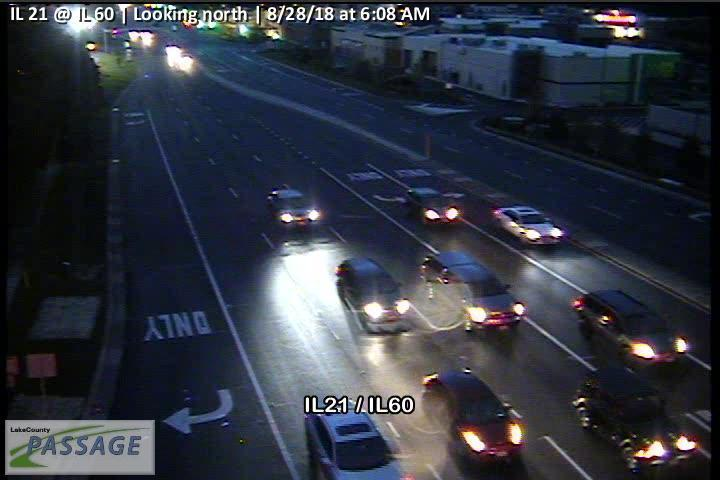Sedan: (570, 369, 699, 476), (418, 364, 526, 463), (569, 288, 689, 371), (420, 249, 525, 334), (303, 398, 405, 480), (333, 256, 412, 334), (492, 202, 563, 247), (402, 184, 457, 224), (266, 189, 317, 230)
